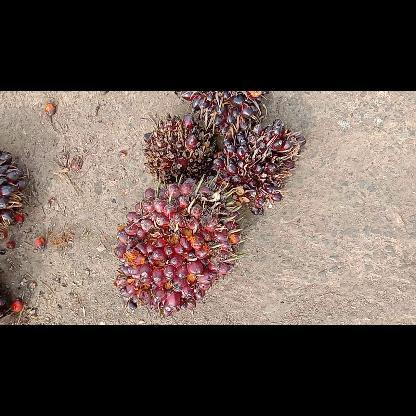TBS abnormal: (214, 119, 306, 216), (144, 116, 214, 184), (171, 91, 268, 139)
TBS masak: (115, 179, 240, 313)
